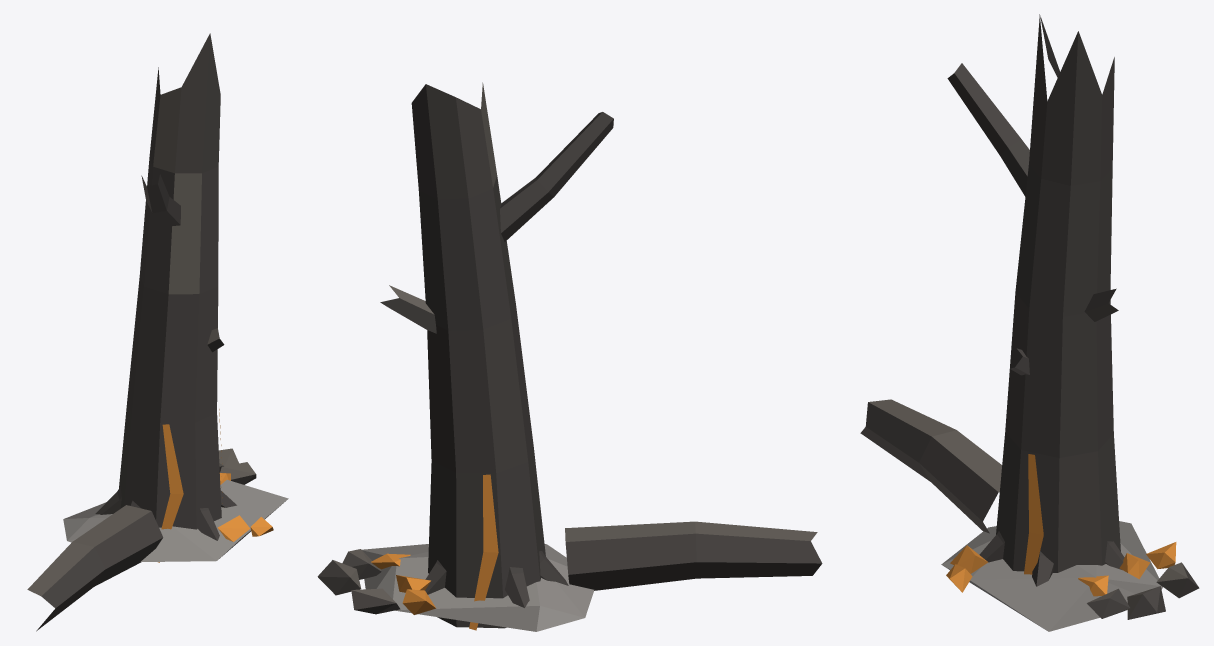
Rendered from tree_lava_0.glb.
3 views of the same model, side by side, from view 1: azimuth 30°, elevation 25°; view 2: azimuth 150°, elevation 25°; view 3: azimuth 270°, elevation 25° (orthographic). The views are drawn at different scales.
Visible parts, largest first — view 1: Body; view 2: Body; view 3: Body.
Part boxes in pixels (x1,y1,x2,y2): Body: (27, 33, 288, 631); Body: (317, 82, 822, 631); Body: (860, 14, 1199, 631).
Bounding box in the file's own units: 4.06 × 5.76 × 3.
